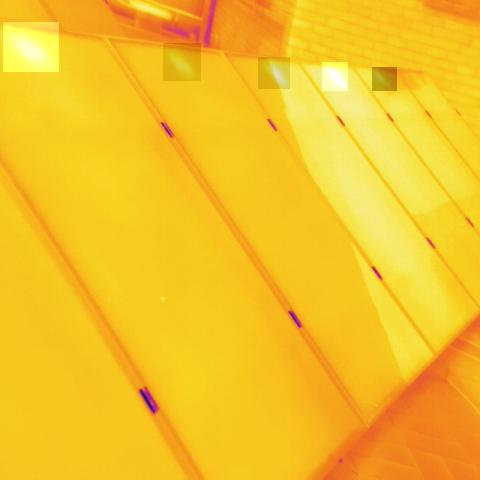fault: (3, 22, 59, 72), (163, 43, 202, 81), (258, 57, 290, 89), (322, 62, 348, 91), (372, 67, 397, 91)
